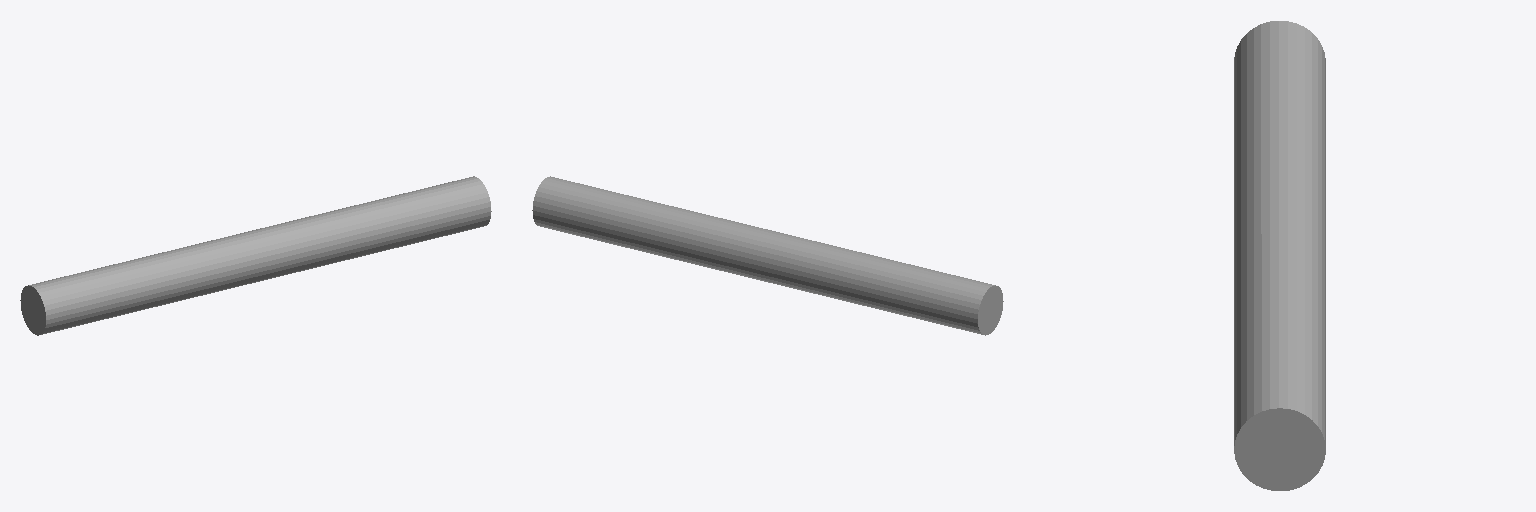
The robot description file, URDF, robot "sawyer":
<?xml version="1.0" ?>
<!-- =================================================================================== -->
<!-- |    This document was autogenerated by xacro from ./urdf.xacro                   | -->
<!-- |    EDITING THIS FILE BY HAND IS NOT RECOMMENDED                                 | -->
<!-- =================================================================================== -->
<robot name="sawyer" xmlns:xacro="http://www.ros.org/wiki/xacro">
  <material name="black">
    <color rgba="0 0 0 1"/>
  </material>
  <material name="darkgray">
    <color rgba=".2 .2 .2 1"/>
  </material>
  <material name="darkred">
    <color rgba=".5 .1 .1 1"/>
  </material>
  <material name="sawyer_red">
    <color rgba=".5 .1 .1 1"/>
  </material>
  <material name="sawyer_gray">
    <color rgba="0.75294 0.75294 0.75294 1"/>
  </material>
  
  <link name="right_arm_base_link">
    <inertial>
      <origin rpy="0 0 0" xyz="-0.0006241 -2.8025E-05 0.065404"/>
      <mass value="2.0687"/>
      <inertia ixx="0.0067599" ixy="-4.2024E-05" ixz="-6.1904E-07" iyy="0.0067877" iyz="1.5888E-05" izz="0.0074031"/>
    </inertial>
    <visual>
      <origin rpy="0 0 0" xyz="0 0 0"/>
      <geometry>
        <mesh filename="package://sawyer_description/meshes/sawyer_pv/base.DAE"/>
      </geometry>
      <material name="sawyer_red"/>
    </visual>
    <collision>
      <origin rpy="0 0 0" xyz="0 0 0.12"/>
      <geometry>
        <cylinder length="0.24" radius="0.08"/>
      </geometry>
    </collision>
  </link>

  <link name="right_l0">
    <inertial>
      <origin rpy="0 0 0" xyz="0.024366 0.010969 0.14363"/>
      <mass value="5.3213"/>
      <inertia ixx="0.053314" ixy="0.0047093" ixz="0.011734" iyy="0.057902" iyz="0.0080179" izz="0.023659"/>
    </inertial>
    <visual>
      <origin rpy="0 0 0" xyz="0 0 0"/>
      <geometry>
        <mesh filename="package://sawyer_description/meshes/sawyer_mp3/l0.DAE"/>
      </geometry>
      <material name="sawyer_red"/>
    </visual>
    <collision>
      <origin rpy="0 0 0" xyz="0.081 0 0.237"/>
      <geometry>
        <sphere radius="0.07"/>
      </geometry>
    </collision>
  </link>

  <joint name="right_j0" type="revolute">
    <origin rpy="0 0 0" xyz="0 0 0.08"/>
    <parent link="right_arm_base_link"/>
    <child link="right_l0"/>
    <axis xyz="0 0 1"/>
    <limit effort="80.0" lower="-3.0503" upper="3.0503" velocity="4.74"/>
  </joint>
  
  <link name="right_l1">
    <inertial>
      <origin rpy="0 0 0" xyz="-0.0030849 -0.026811 0.092521"/>
      <mass value="4.505"/>
      <inertia ixx="0.022398" ixy="-0.00023986" ixz="-0.00029362" iyy="0.014613" iyz="-0.0060875" izz="0.017295"/>
    </inertial>
    <visual>
      <origin rpy="0 0 0" xyz="0 0 0"/>
      <geometry>
        <mesh filename="package://sawyer_description/meshes/sawyer_mp3/l1.DAE"/>
      </geometry>
      <material name="sawyer_red"/>
    </visual>
    <collision>
      <origin rpy="0 0 0" xyz="0 0 0.1225"/>
      <geometry>
        <sphere radius="0.07"/>
      </geometry>
    </collision>
  </link>

  <joint name="right_j1" type="revolute">
    <origin rpy="-1.57079632679 1.57079632679 0" xyz="0.081 0.05 0.237"/>
    <parent link="right_l0"/>
    <child link="right_l1"/>
    <axis xyz="0 0 1"/>
    <limit effort="80.0" lower="-3.8183" upper="2.2824" velocity="4.328"/>
  </joint>

  <link name="right_l2">
    <inertial>
      <origin rpy="0 0 0" xyz="-0.00016232 -0.015346 0.13445"/>
      <mass value="1.7251"/>
      <inertia ixx="0.025176" ixy="4.3031E-06" ixz="1.4564E-05" iyy="0.024982" iyz="-0.0033928" izz="0.0033798"/>
    </inertial>
    <visual>
      <origin rpy="0 0 0" xyz="0 0 0"/>
      <geometry>
        <mesh filename="package://sawyer_description/meshes/sawyer_pv/l2.DAE"/>
      </geometry>
      <material name="sawyer_red"/>
    </visual>
    <collision>
      <origin rpy="0 0 0" xyz="0 0 0.14"/>
      <geometry>
        <cylinder length="0.35" radius="0.06"/>
      </geometry>
    </collision>
  </link>

  <joint name="right_j2" type="revolute">
    <origin rpy="1.57079632679 0 0" xyz="0 -0.14 0.1425"/>
    <parent link="right_l1"/>
    <child link="right_l2"/>
    <axis xyz="0 0 1"/>
    <limit effort="40.0" lower="-3.0514" upper="3.0514" velocity="4.957"/>
  </joint>

  <link name="right_l3">
    <inertial>
      <origin rpy="0 0 0" xyz="-0.0046678 -0.028394 -0.083127"/>
      <mass value="2.4743"/>
      <inertia ixx="0.0099549" ixy="-1.7675E-05" ixz="0.00027521" iyy="0.0064248" iyz="0.0030853" izz="0.0067746"/>
    </inertial>
    <visual>
      <origin rpy="0 0 0" xyz="0 0 0"/>
      <geometry>
        <mesh filename="package://sawyer_description/meshes/sawyer_pv/l3.DAE"/>
      </geometry>
      <material name="sawyer_red"/>
    </visual>
    <collision>
      <origin rpy="0 0 0" xyz="0 -0.01 -0.12"/>
      <geometry>
        <sphere radius="0.06"/>
      </geometry>
    </collision>
  </link>

  <joint name="right_j3" type="revolute">
    <origin rpy="-1.57079632679 0 0" xyz="0 -0.042 0.26"/>
    <parent link="right_l2"/>
    <child link="right_l3"/>
    <axis xyz="0 0 1"/>
    <limit effort="40.0" lower="-3.0514" upper="3.0514" velocity="4.957"/>
  </joint>

  <link name="right_l4">
    <inertial>
      <origin rpy="0 0 0" xyz="-0.0027794 0.0076558 0.13273"/>
      <mass value="1.0433"/>
      <inertia ixx="0.012913" ixy="2.573E-05" ixz="0.00017705" iyy="0.012939" iyz="0.0011152" izz="0.0012405"/>
    </inertial>
    <visual>
      <origin rpy="0 0 0" xyz="0 0 0"/>
      <geometry>
        <mesh filename="package://sawyer_description/meshes/sawyer_pv/l4.DAE"/>
      </geometry>
      <material name="sawyer_red"/>
    </visual>
    <collision>
      <origin rpy="0 0 0" xyz="0 0 0.14"/>
      <geometry>
        <cylinder length="0.36" radius="0.045"/>
      </geometry>
    </collision>
  </link>

  <joint name="right_j4" type="revolute">
    <origin rpy="1.57079632679 0 0" xyz="0 -0.125 -0.1265"/>
    <parent link="right_l3"/>
    <child link="right_l4"/>
    <axis xyz="0 0 1"/>
    <limit effort="9.0" lower="-2.9842" upper="2.9842" velocity="4.485"/>
  </joint>
 
  <link name="right_l5">
    <inertial>
      <origin rpy="0 0 0" xyz="0.0062067 -0.024291 0.075564"/>
      <mass value="1.5343"/>
      <inertia ixx="0.0046072" ixy="0.00012002" ixz="5.3065E-05" iyy="0.0028725" iyz="-0.0011886" izz="0.003101"/>
    </inertial>
    <visual>
      <origin rpy="0 0 0" xyz="0 0 0"/>
      <geometry>
        <mesh filename="package://sawyer_description/meshes/sawyer_pv/l5.STL"/>
      </geometry>
      <material name="sawyer_red"/>
    </visual>
    <collision>
      <origin rpy="0 0 0" xyz="0.01 0 0.09"/>
      <geometry>
        <sphere radius="0.06"/>
      </geometry>
    </collision>
  </link>

  <joint name="right_j5" type="revolute">
    <origin rpy="-1.57079632679 0 0" xyz="0 0.031 0.275"/>
    <parent link="right_l4"/>
    <child link="right_l5"/>
    <axis xyz="0 0 1"/>
    <limit effort="9.0" lower="-2.9842" upper="2.9842" velocity="4.485"/>
  </joint>

  <link name="right_l6">
    <inertial>
      <origin rpy="0 0 0" xyz="-8.0726E-06 0.0085838 -0.0049566"/>
      <mass value="0.3292"/>
      <inertia ixx="0.00031105" ixy="1.4771E-06" ixz="-3.7074E-07" iyy="0.00021549" iyz="-8.4533E-06" izz="0.00035976"/>
    </inertial>
    <visual>
      <origin rpy="0 0 0" xyz="0 0 0"/>
      <geometry>
        <mesh filename="package://sawyer_description/meshes/sawyer_mp1/l6.STL"/>
      </geometry>
      <material name="sawyer_red"/>
    </visual>
    <collision>
      <origin rpy="0 0 0" xyz="0 0 -0.005"/>
      <geometry>
        <cylinder length="0.05" radius="0.065"/>
      </geometry>
    </collision>
  </link>

  <joint name="right_j6" type="revolute">
    <origin rpy="-1.57079632679 -0.17453 3.1416" xyz="0 -0.11 0.1053"/>
    <parent link="right_l5"/>
    <child link="right_l6"/>
    <axis xyz="0 0 1"/>
    <limit effort="9.0" lower="-4.7104" upper="4.7104" velocity="5.545"/>
  </joint>

  <link name="gripper_pole">
    <visual>
      <geometry>
        <cylinder length="0.2" radius=".01"/>
      </geometry>
      <origin rpy="0 1.57075 0 " xyz="0.1 0 0"/>
      <material name="Gray">
        <color rgba=".7 .7 .7 1"/>
      </material>
    </visual>
    <collision>
      <geometry>
        <cylinder length="0.2" radius=".01"/>
      </geometry>
      <origin rpy="0 1.57075 0 " xyz="0.1 0 0"/>
    </collision>
    <inertial>
      <mass value="0.5"/>
      <inertia ixx="1.0" ixy="0.0" ixz="0.0" iyy="1.0" iyz="0.0" izz="1.0"/>
    </inertial>
  </link>

  <joint name="gripper_base" type="fixed">
    <origin rpy="0 -1.57 0" xyz="0 0 -0.16"/>
    <parent link="right_l6"/>
    <child link="gripper_pole"/>
  </joint>

  <joint name="left_gripper_joint" type="fixed">
    <axis xyz="0 0 1"/>
    <limit effort="1000.0" lower="0.0" upper="0.548" velocity="0.5"/>
    <origin rpy="0 0 0" xyz="0.2 0.01 0"/>
    <parent link="gripper_pole"/>
    <child link="left_gripper"/>
  </joint>

  <link name="left_gripper">
    <contact>
      <lateral_friction value="1.0"/>
      <spinning_friction value="1.5"/>
    </contact>
    <visual>
      <origin rpy="0.0 0 0" xyz="0 0 0"/>
      <geometry>
        <mesh filename="l_finger_collision.stl"/>
      </geometry>
    </visual>
    <collision>
      <origin rpy="0.0 0 0" xyz="0 0 0"/>
      <geometry>
        <mesh filename="l_finger_collision.stl"/>
      </geometry>
    </collision>
    <inertial>
      <mass value="0.1"/>
      <inertia ixx="1.0" ixy="0.0" ixz="0.0" iyy="1.0" iyz="0.0" izz="1.0"/>
    </inertial>
  </link>

  <joint name="left_tip_joint" type="fixed">
    <parent link="left_gripper"/>
    <child link="left_tip"/>
  </joint>

  <link name="left_tip">
    <contact>
      <lateral_friction value="1.0"/>
      <spinning_friction value="1.5"/>
    </contact>
    <visual>
      <origin rpy="0.0 0 0" xyz="0.09137 0.00495 0"/>
      <geometry>
        <mesh filename="l_finger_tip.stl"/>
      </geometry>
    </visual>
    <collision>
      <geometry>
        <box size=".03 .01 .02"/>
      </geometry>
      <origin rpy="0.0 0.0 0" xyz="0.105 -0.005 0"/>
    </collision>
    <inertial>
      <mass value="0.1"/>
      <inertia ixx="1.0" ixy="0.0" ixz="0.0" iyy="1.0" iyz="0.0" izz="1.0"/>
    </inertial>
  </link>

  <joint name="right_gripper_joint" type="fixed">
    <axis xyz="0 0 -1"/>
    <limit effort="1000.0" lower="0.0" upper="0.548" velocity="0.5"/>
    <origin rpy="0 0 0" xyz="0.2 -0.01 0"/>
    <parent link="gripper_pole"/>
    <child link="right_gripper"/>
  </joint>

  <link name="right_gripper">
    <contact>
      <lateral_friction value="1.0"/>
      <spinning_friction value="1.5"/>
    </contact>
    <visual>
      <origin rpy="-3.1415 0 0" xyz="0 0 0"/>
      <geometry>
        <mesh filename="l_finger_collision.stl"/>
      </geometry>
    </visual>
         <collision>
      <origin rpy="-3.1415 0 0" xyz="0 0 0"/>
      <geometry>
        <mesh filename="l_finger_collision.stl"/>
      </geometry>
    </collision>
    <inertial>
      <mass value="0.1"/>
      <inertia ixx="1.0" ixy="0.0" ixz="0.0" iyy="1.0" iyz="0.0" izz="1.0"/>
    </inertial>
  </link>

  <joint name="right_tip_joint" type="fixed">
    <parent link="right_gripper"/>
    <child link="right_tip"/>
  </joint>

  <link name="right_tip">
    <contact>
      <lateral_friction value="1.0"/>
      <spinning_friction value="1.5"/>
    </contact>
    <visual>
      <origin rpy="-3.1415 0 0" xyz="0.09137 0.00495 0"/>
      <geometry>
        <mesh filename="l_finger_tip.stl"/>
      </geometry>
    </visual>
    <collision>
      <geometry>
      	<box size=".03 .01 .02"/>
      </geometry>
      <origin rpy="-3.1415 0 0" xyz="0.105 0.015 0"/>
    </collision>
	<collision>
      <geometry>
        <box size=".01 .02 .02"/>
      </geometry>
      <origin rpy="-3.1415 0 -0.5" xyz="0.095 0.005 0"/>
    </collision>

    <inertial>
      <mass value="0.1"/>
      <inertia ixx="1.0" ixy="0.0" ixz="0.0" iyy="1.0" iyz="0.0" izz="1.0"/>
    </inertial>
  </link>
</robot>

--- Render facts (derived) ---
Views: 3 orthographic renders of the robot side by side, from view 1: azimuth 30°, elevation 25°; view 2: azimuth 150°, elevation 25°; view 3: azimuth 270°, elevation 25°.
Robot: sawyer — 13 links, 12 joints (7 revolute, 5 fixed); root link right_arm_base_link; default pose: all joints at 0.
Visible links, largest first — view 1: gripper_pole; view 2: gripper_pole; view 3: gripper_pole.
Boxes of the visible links, bbox=[...] form: gripper_pole: bbox=[20, 176, 491, 335]; gripper_pole: bbox=[532, 176, 1003, 335]; gripper_pole: bbox=[1234, 21, 1325, 490].
Bounding box of the posed robot: 0.2 × 0.02 × 0.0201 m (x, y, z).
0 mesh visuals loaded from 10 distinct referenced files (none loaded); not drawn: 12 (reference not matched to a file when rendering).